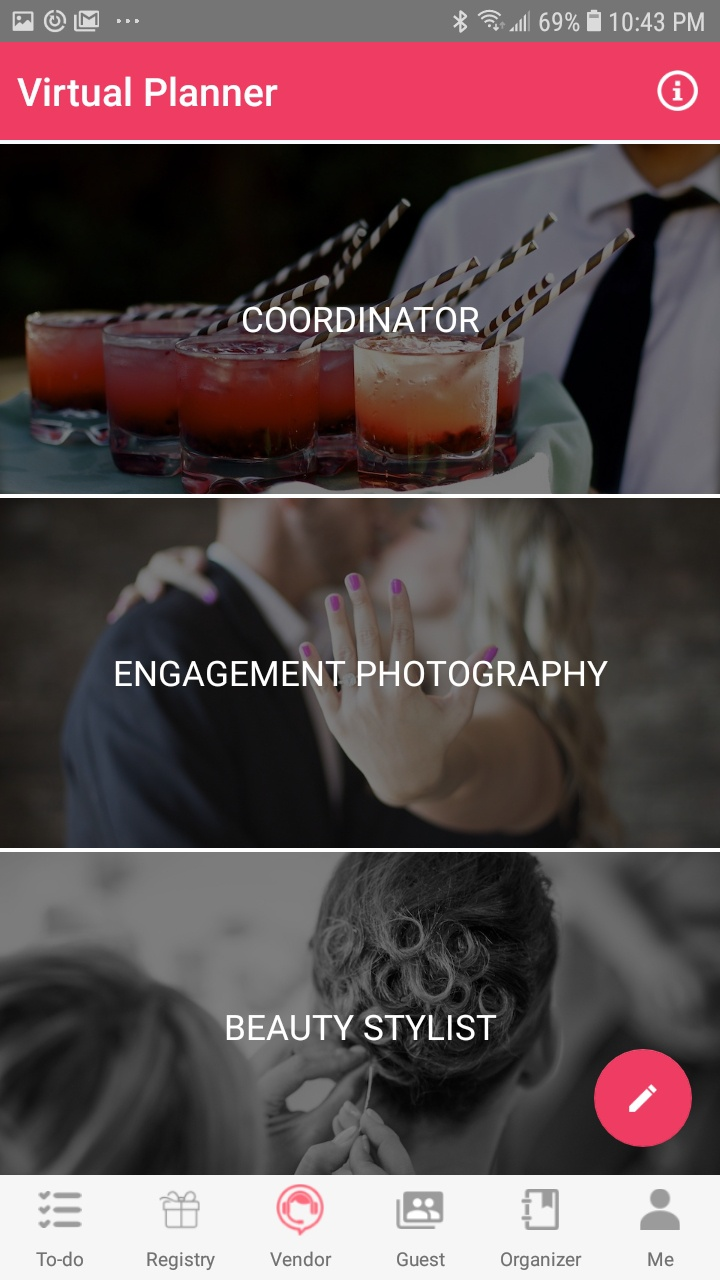Icon: (593, 1048, 692, 1147), (395, 1191, 444, 1230), (656, 70, 699, 113), (38, 1190, 84, 1229), (640, 1189, 681, 1231), (521, 1189, 560, 1231), (159, 1190, 201, 1229)
Image: (1, 145, 720, 495), (1, 498, 720, 848), (1, 852, 720, 1175), (276, 1183, 325, 1236)
Text: (115, 660, 609, 688), (16, 76, 279, 108), (226, 1014, 498, 1042), (243, 307, 480, 334), (500, 1251, 582, 1270), (147, 1251, 216, 1271), (270, 1250, 333, 1267), (37, 1250, 85, 1267), (396, 1251, 446, 1267), (647, 1251, 674, 1267)
UpperTaskBar: (1, 1, 720, 43)
